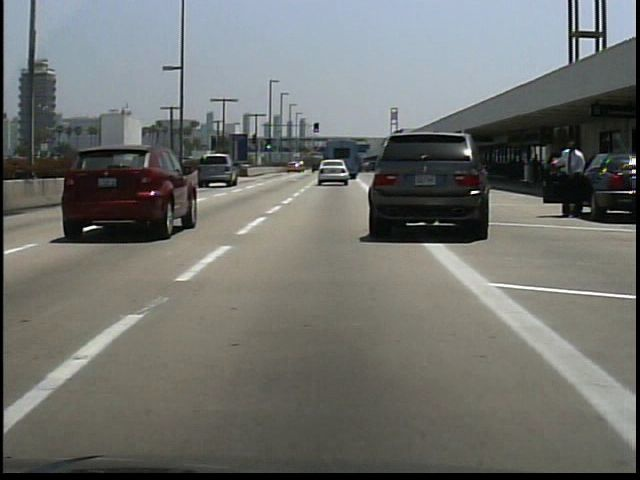person: (546, 136, 587, 222)
